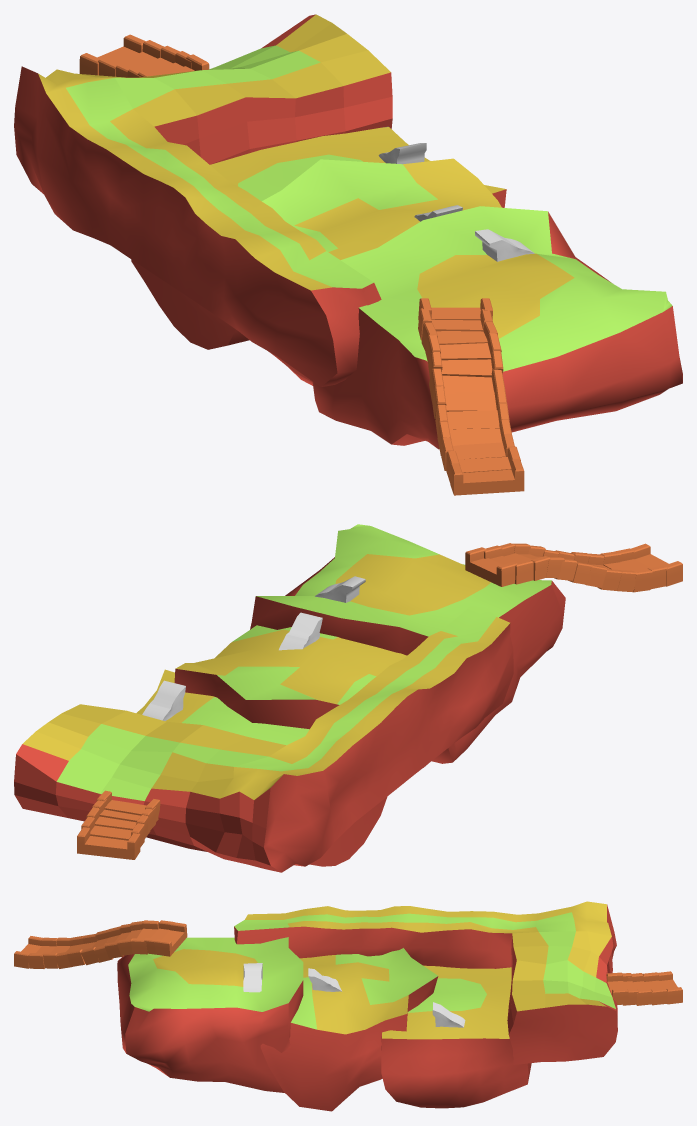
File: MSH_Level (1).fbx
The picture shows the model from 3 angles, top to bottom: view 1: azimuth 30°, elevation 25°; view 2: azimuth 150°, elevation 25°; view 3: azimuth 270°, elevation 25°; orthographic projection. The views are drawn at different scales.
Parts seen in each view (by area): view 1: PB_LB_Rock14, PB_LB_Rock1, PB_LB_Rock2, PB_LB_Rock3, PB_LB_Bridge1, PB_LB_Bridge6, PB_LB_Bridge5, PB_LB_Bridge8, PB_LB_Bridge9, PB_LB_Bridge7, PB_LB_Bridge4, PB_LB_Bridge3 (+8 smaller); view 2: PB_LB_Rock14, PB_LB_Rock1, PB_LB_Rock2, PB_LB_Rock3, PB_LB_Bridge015, PB_LB_Bridge12, PB_LB_Plataform2, PB_LB_Plataform1, PB_LB_Bridge1, PB_LB_Bridge016, PB_LB_Plataform3, PB_LB_Bridge11 (+9 smaller); view 3: PB_LB_Rock14, PB_LB_Rock1, PB_LB_Rock2, PB_LB_Rock3, PB_LB_Bridge12, PB_LB_Plataform3, PB_LB_Plataform2, PB_LB_Bridge10, PB_LB_Bridge013, PB_LB_Bridge016, PB_LB_Bridge015, PB_LB_Plataform1 (+11 smaller).
Part boxes in pixels (<box>): PB_LB_Rock14: <box>14,14,392,386</box>; PB_LB_Rock1: <box>312,206,682,449</box>; PB_LB_Rock2: <box>262,158,501,385</box>; PB_LB_Rock3: <box>131,126,506,349</box>; PB_LB_Bridge1: <box>450,459,524,495</box>; PB_LB_Bridge6: <box>432,385,506,418</box>; PB_LB_Bridge5: <box>435,403,509,436</box>; PB_LB_Bridge8: <box>428,351,503,377</box>; PB_LB_Bridge9: <box>425,333,501,364</box>; PB_LB_Bridge7: <box>429,368,504,402</box>; PB_LB_Bridge4: <box>437,419,511,455</box>; PB_LB_Bridge3: <box>441,433,514,470</box>; PB_LB_Rock14: <box>14,606,513,872</box>; PB_LB_Rock1: <box>250,524,565,763</box>; PB_LB_Rock2: <box>174,625,427,767</box>; PB_LB_Rock3: <box>136,669,387,866</box>; PB_LB_Bridge015: <box>77,827,140,859</box>; PB_LB_Bridge12: <box>465,547,517,586</box>; PB_LB_Plataform2: <box>142,680,185,720</box>; PB_LB_Plataform1: <box>279,612,322,650</box>; PB_LB_Bridge1: <box>631,543,682,586</box>; PB_LB_Bridge016: <box>81,816,144,847</box>; PB_LB_Plataform3: <box>315,576,365,602</box>; PB_LB_Bridge11: <box>484,545,533,584</box>; PB_LB_Rock14: <box>234,901,617,1064</box>; PB_LB_Rock1: <box>117,937,303,1092</box>; PB_LB_Rock2: <box>260,948,438,1111</box>; PB_LB_Rock3: <box>381,965,531,1108</box>; PB_LB_Bridge12: <box>155,922,187,956</box>; PB_LB_Plataform3: <box>243,963,262,992</box>; PB_LB_Plataform2: <box>432,1002,465,1027</box>; PB_LB_Bridge10: <box>131,920,159,954</box>; PB_LB_Bridge013: <box>606,972,628,1004</box>; PB_LB_Bridge016: <box>643,972,667,1005</box>; PB_LB_Bridge015: <box>658,971,682,1004</box>; PB_LB_Plataform1: <box>308,968,341,991</box>.
Bounding box in the file's own units: 19.63 × 10.69 × 53.18.
